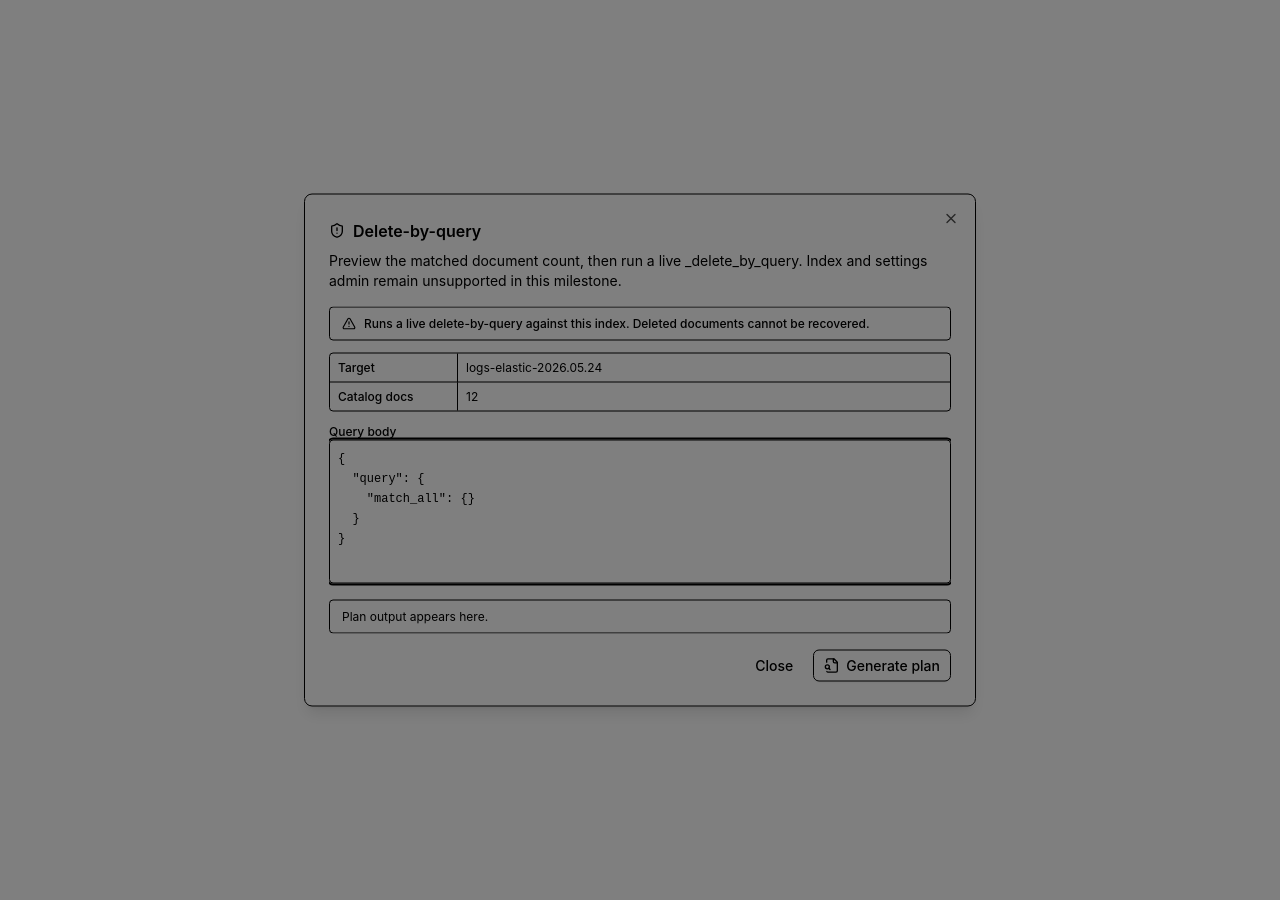
Test: SearchDeleteByQueryPreviewDialog › runs the live delete directly in the non-production allow tier and shows the deleted count
This screenshot has width=1280, height=900.
Click the button "Generate plan" at point(882, 666), box top-left (813, 650), bottom-right (951, 682)
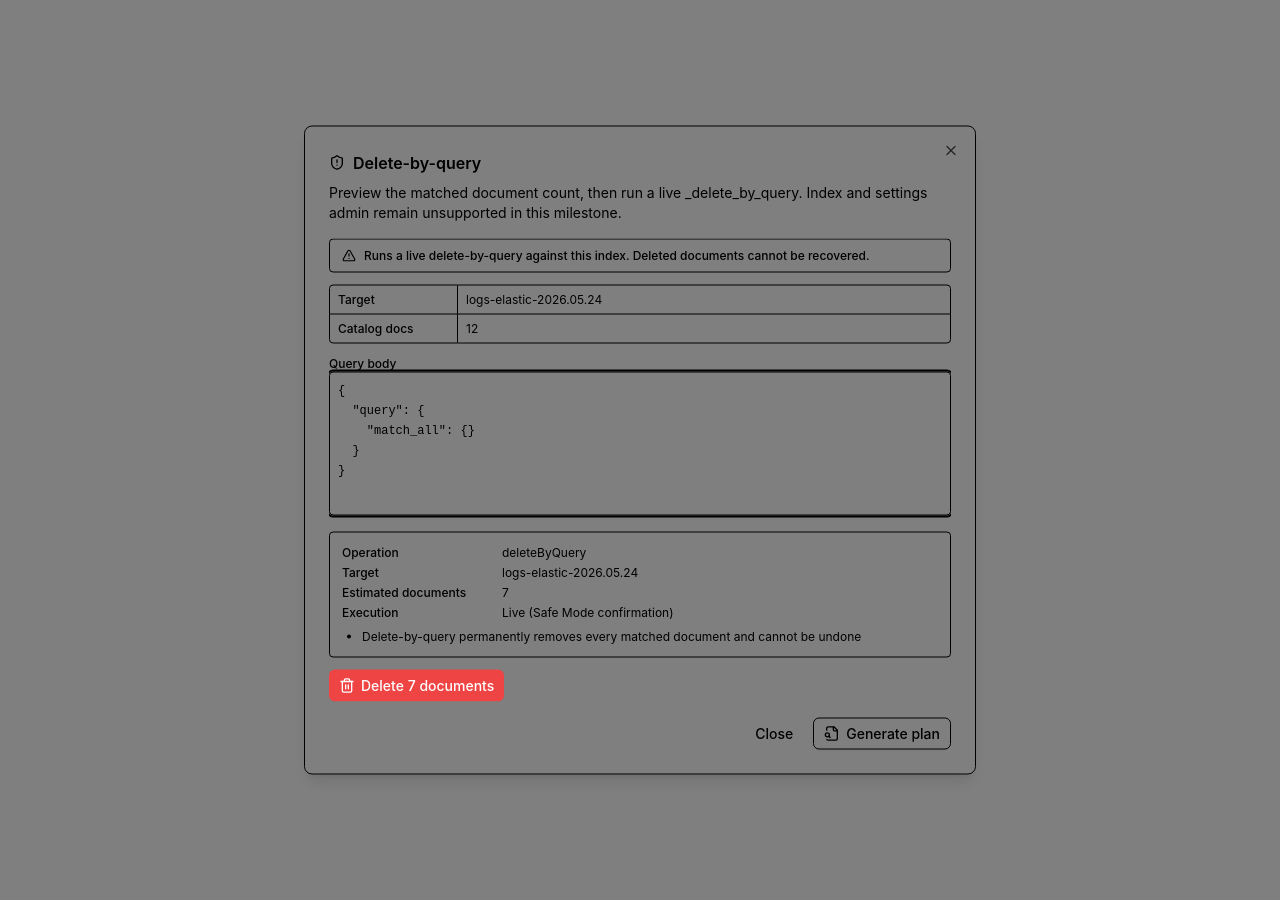
Click the button "Delete 7 documents" at point(417, 686), box top-left (329, 670), bottom-right (504, 702)
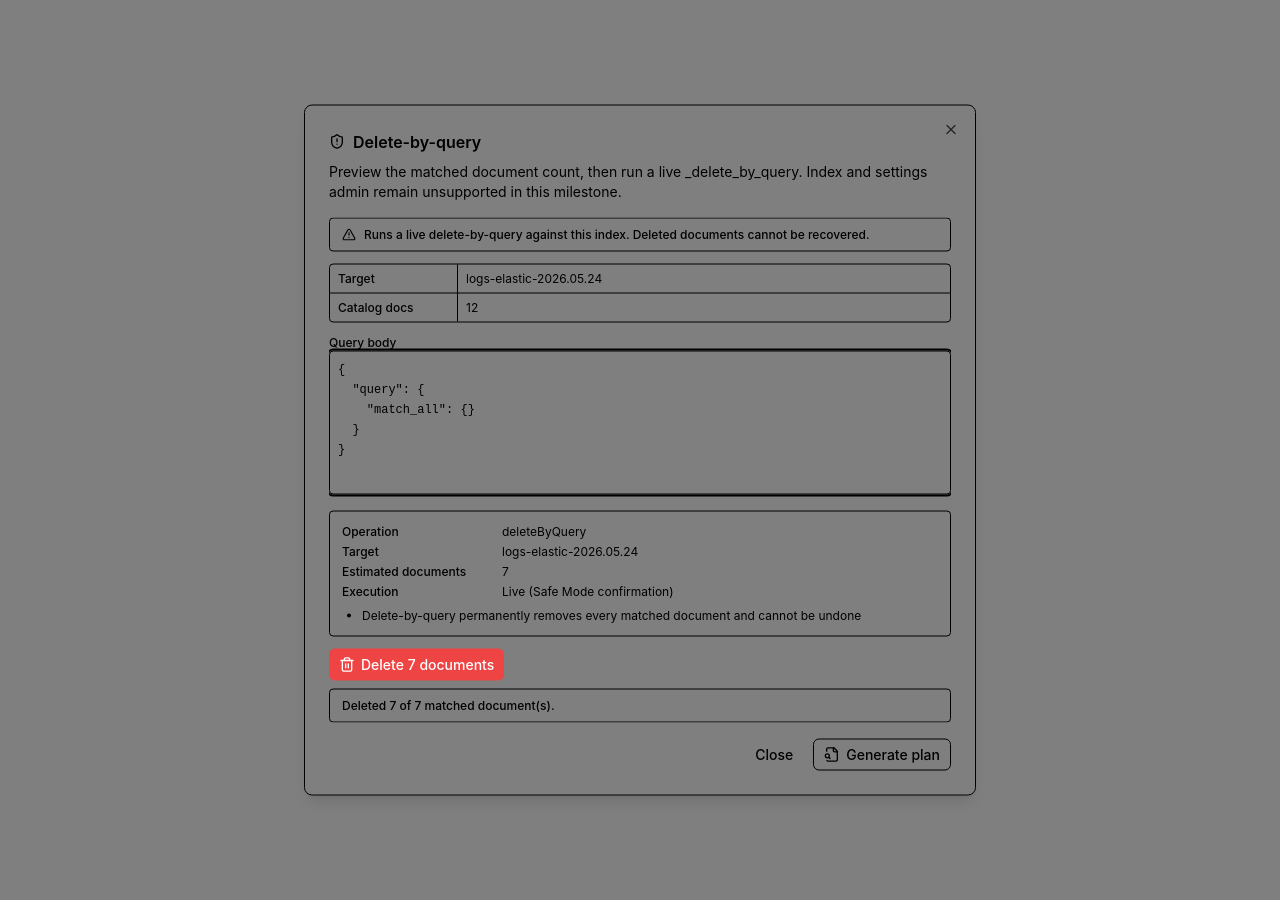
Now the element named "Delete-by-query result" reads "Deleted 7 of 7 matched document(s).", box top-left (342, 698), bottom-right (554, 712)
